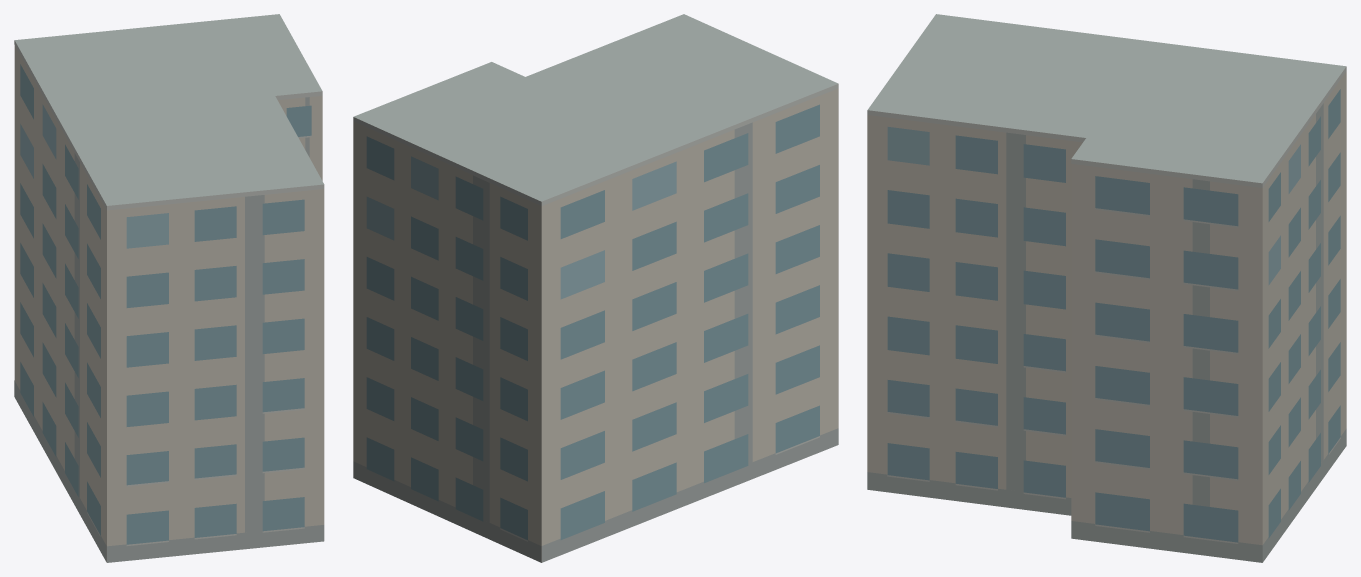
The model's file is survey-upis-32985942.glb.
The picture shows the model from 3 angles, left to right: view 1: azimuth 30°, elevation 25°; view 2: azimuth 150°, elevation 25°; view 3: azimuth 270°, elevation 25°; orthographic projection. The views are drawn at different scales.
Parts seen in each view (by area): view 1: survey-upis-32985942.tmp; view 2: survey-upis-32985942.tmp; view 3: survey-upis-32985942.tmp.
Part boxes in pixels (x1,y1,x2,y2): survey-upis-32985942.tmp: (14, 14, 324, 562); survey-upis-32985942.tmp: (353, 14, 838, 562); survey-upis-32985942.tmp: (867, 14, 1346, 562).
Bounding box in the file's own units: 18.64 × 19.48 × 22.29.
